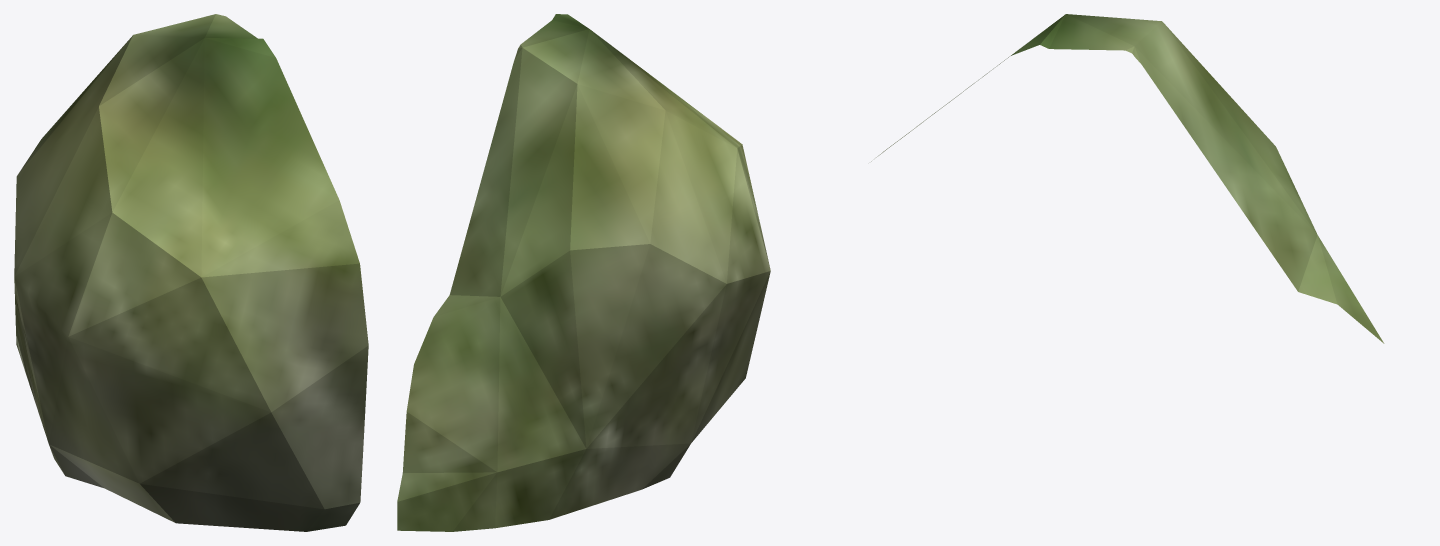
3 views of the same model, side by side, from view 1: azimuth 30°, elevation 25°; view 2: azimuth 150°, elevation 25°; view 3: azimuth 270°, elevation 25° (orthographic). The views are drawn at different scales.
Bounding box in the file's own units: 0.2292 × 0.4375 × 0.5052.
1 material, 1 textured.
